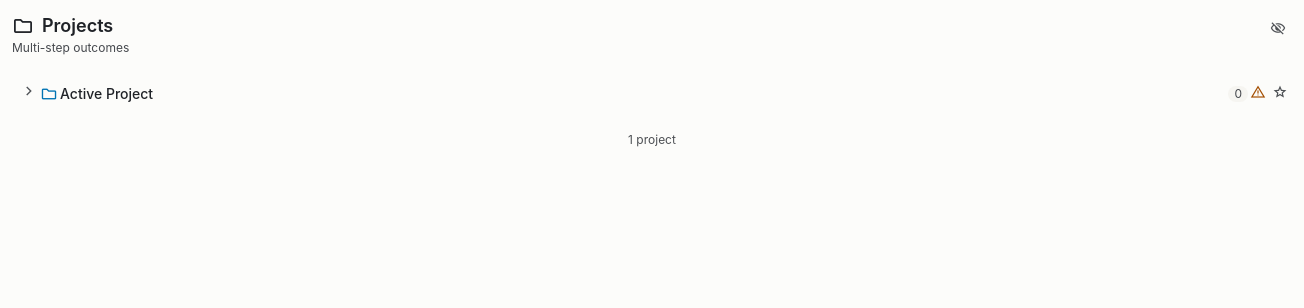
Test: ProjectTree › shows non-active projects after clicking toggle
Check: the text "Completed Project" is not shown
Check: the text "On Hold Project" is not shown
Click the button named "Show all projects".
click(1278, 30)  # box [1264,12,1292,48]
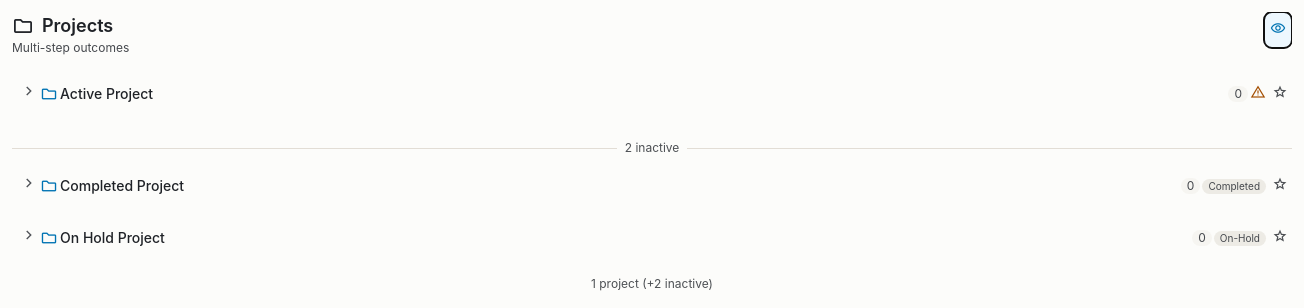
Check: the button "Completed Project" is shown, box [60,176,1131,196]
Check: the button "On Hold Project" is shown, box [60,228,1142,248]
Check: the text "2 inactive" is shown, box [625,140,679,156]
